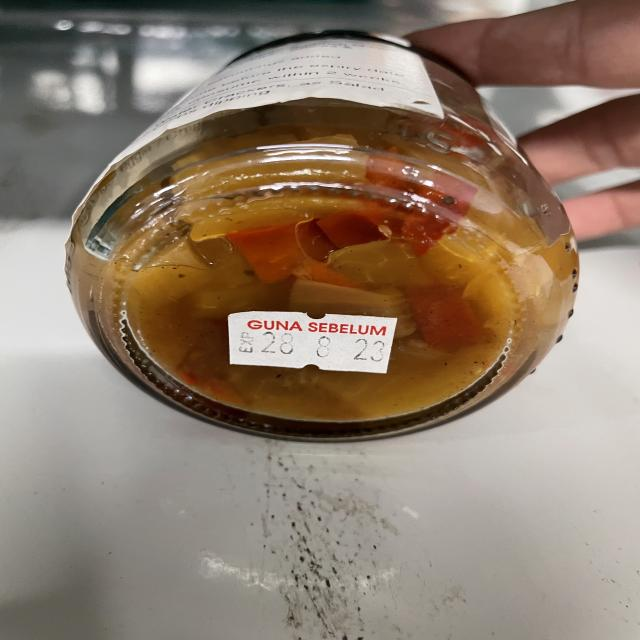object_name: (72, 38, 564, 440)
